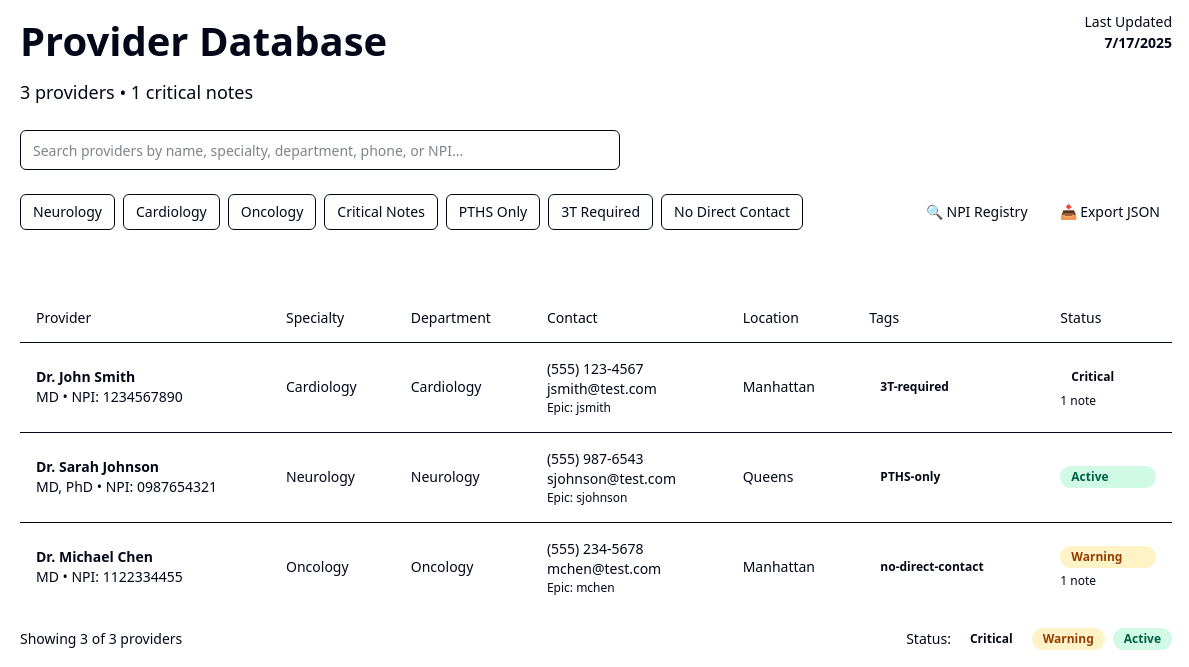
Test case: Providers Page - Core Functionality (TDD) › 2. Search Functionality (TDD) › shows empty state when no results found
The image size is (1189, 667).
Type "nonexistent" into the field at [320, 150], box [20,130,620,170]
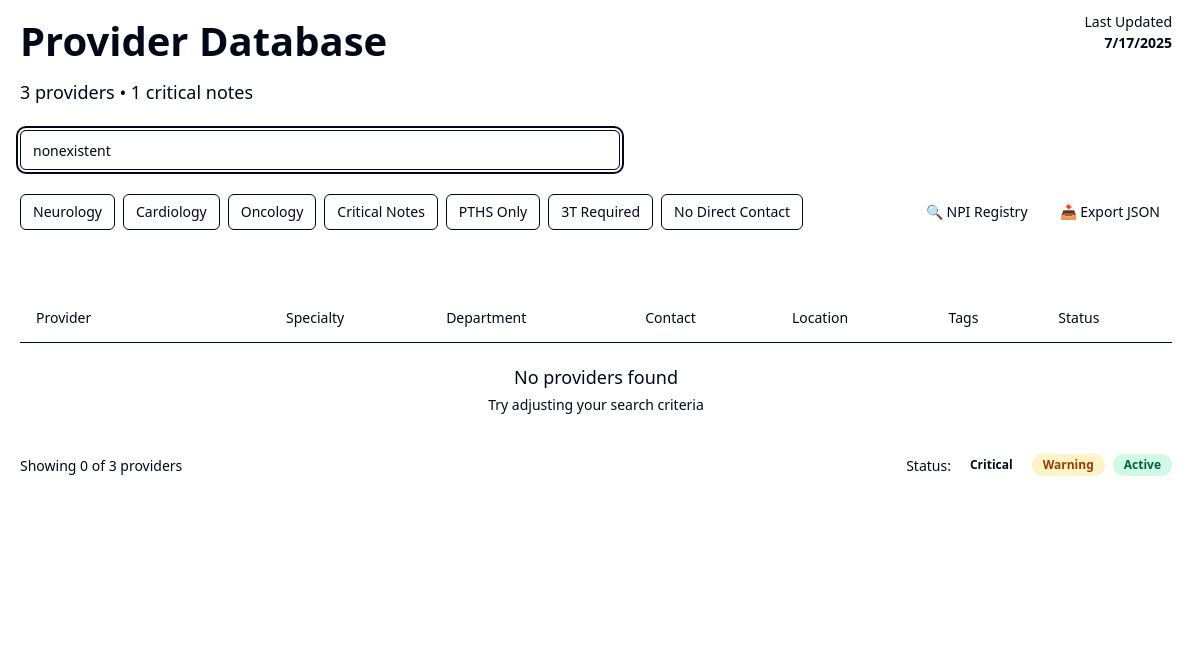
Now the text "No providers found" is shown, box [514,365,678,389]
Now the text "Dr. John Smith" is gone
